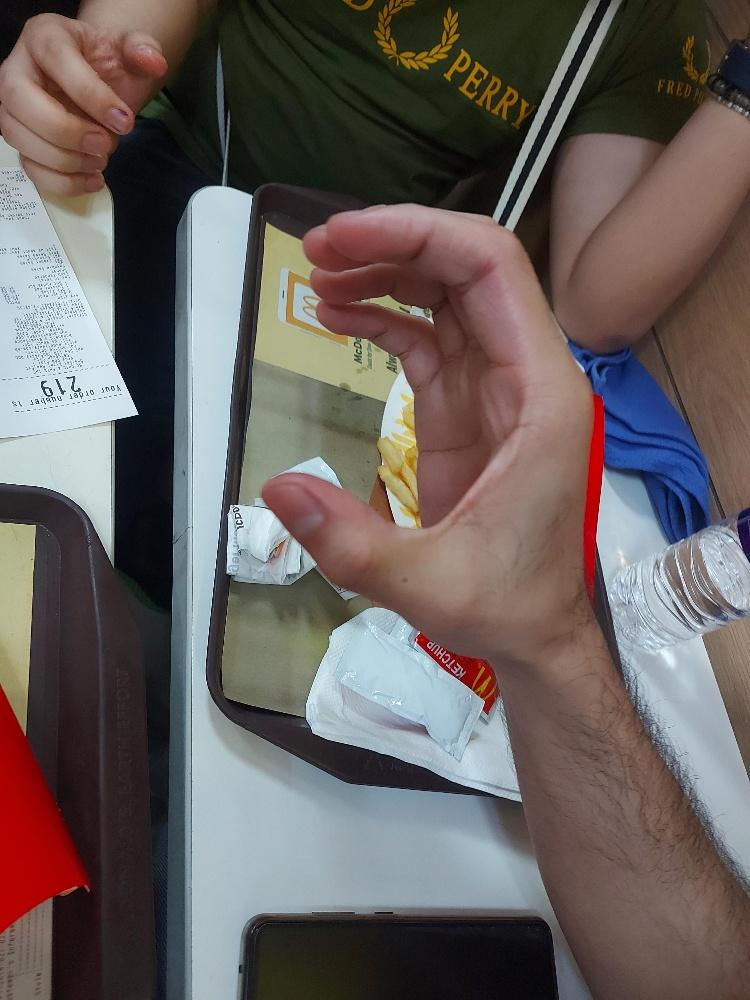c: (258, 198, 598, 663)
